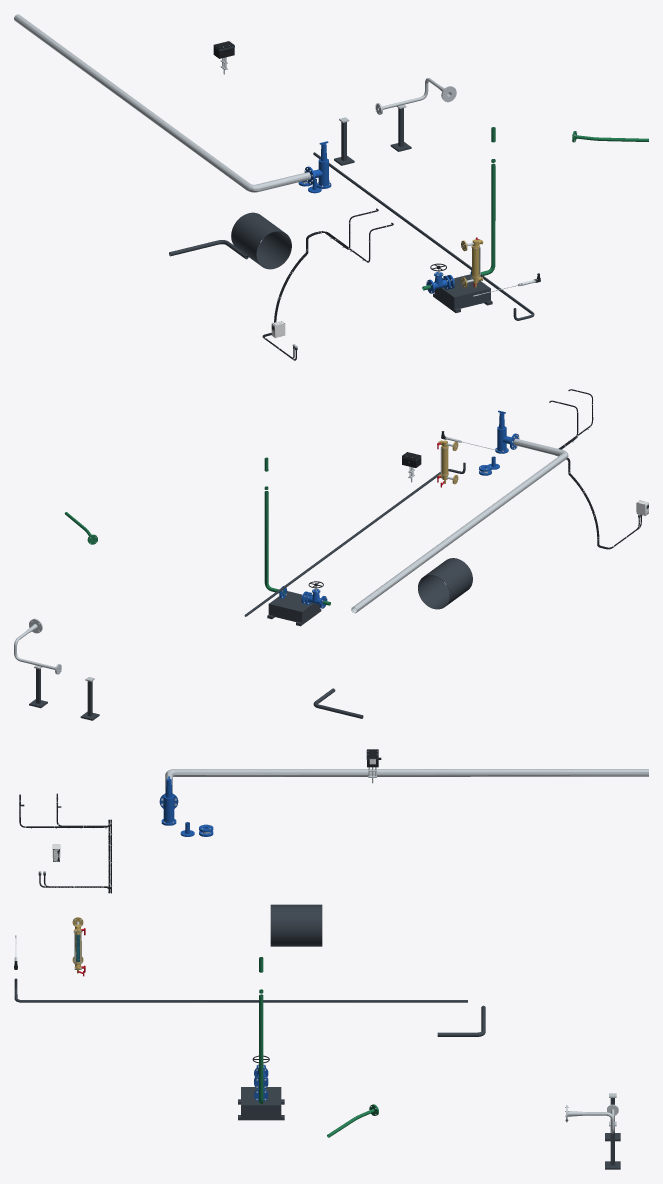
File: s4000-7-DwO1vRc9.glb
3 renders of one model, top to bottom at view 1: azimuth 30°, elevation 25°; view 2: azimuth 150°, elevation 25°; view 3: azimuth 270°, elevation 25°, orthographic. The views are drawn at different scales.
Visible parts, largest first — view 1: safety_vent_1 / steel, flue_spacer / dark, pump_branch_2 / dark, tds_common / dark, pump_branch_2 / green, trap_support / dark, safety_1 / blue, fv_to_trap_gap / steel, sight_glasses_2 / sight_glasses_2_0.npz, wiring_lp200 / black; view 2: safety_vent_1 / steel, flue_spacer / dark, pump_branch_2 / dark, tds_common / dark, pump_branch_2 / green, trap_support / dark, sight_glasses_2 / sight_glasses_2_0.npz, safety_1 / blue, fv_to_trap_gap / steel; view 3: safety_vent_1 / steel, flue_spacer / dark, tds_common / dark, pump_branch_2 / dark, pump_branch_2 / green.
Part boxes in pixels (<box>): safety_vent_1 / steel: <box>14,14,310,192</box>; flue_spacer / dark: <box>231,212,291,269</box>; pump_branch_2 / dark: <box>433,274,492,312</box>; tds_common / dark: <box>313,152,534,320</box>; pump_branch_2 / green: <box>422,127,495,290</box>; trap_support / dark: <box>334,108,411,165</box>; safety_1 / blue: <box>304,141,331,188</box>; fv_to_trap_gap / steel: <box>375,78,456,114</box>; sight_glasses_2 / sight_glasses_2_0.npz: <box>461,237,483,287</box>; wiring_lp200 / black: <box>264,222,393,360</box>; safety_vent_1 / steel: <box>351,438,568,613</box>; flue_spacer / dark: <box>418,558,472,609</box>; pump_branch_2 / dark: <box>267,591,321,626</box>; tds_common / dark: <box>244,462,465,616</box>; pump_branch_2 / green: <box>264,457,330,605</box>; trap_support / dark: <box>29,668,99,720</box>; sight_glasses_2 / sight_glasses_2_0.npz: <box>437,440,458,487</box>; safety_1 / blue: <box>495,410,519,453</box>; fv_to_trap_gap / steel: <box>14,618,61,674</box>; safety_vent_1 / steel: <box>165,769,648,793</box>; flue_spacer / dark: <box>270,904,322,946</box>; tds_common / dark: <box>14,978,467,1002</box>; pump_branch_2 / dark: <box>238,1087,284,1120</box>; pump_branch_2 / green: <box>259,957,263,1103</box>.
Bounding box in the file's own units: 5.82 × 2.85 × 6.14.
